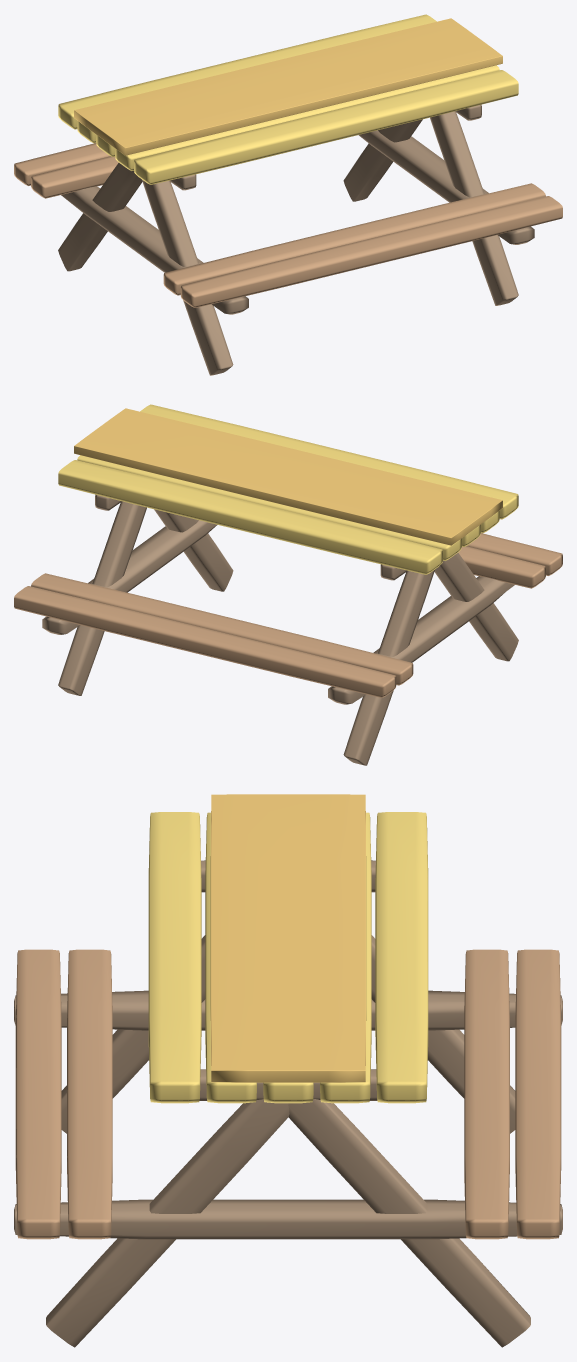
File: HotPotatoTable.glb
3 renders of one model, top to bottom at view 1: azimuth 30°, elevation 25°; view 2: azimuth 150°, elevation 25°; view 3: azimuth 270°, elevation 25°, orthographic. The views are drawn at different scales.
Visible parts, largest first — view 1: Cloth, Legs, Benches, Top; view 2: Cloth, Legs, Benches, Top; view 3: Benches, Legs, Cloth, Top.
Part boxes in pixels (box(x1,y1,x2,y2)): Cloth: box(74, 18, 502, 155); Legs: box(58, 104, 534, 375); Benches: box(14, 143, 562, 307); Top: box(58, 14, 518, 184); Cloth: box(74, 408, 502, 545); Legs: box(42, 494, 518, 765); Benches: box(14, 533, 562, 697); Top: box(58, 404, 518, 574); Benches: box(15, 949, 561, 1239); Legs: box(14, 860, 562, 1347); Cloth: box(210, 794, 366, 1082); Top: box(148, 812, 428, 1103).
Bounding box in the file's own units: 7.15 × 3.7 × 6.
